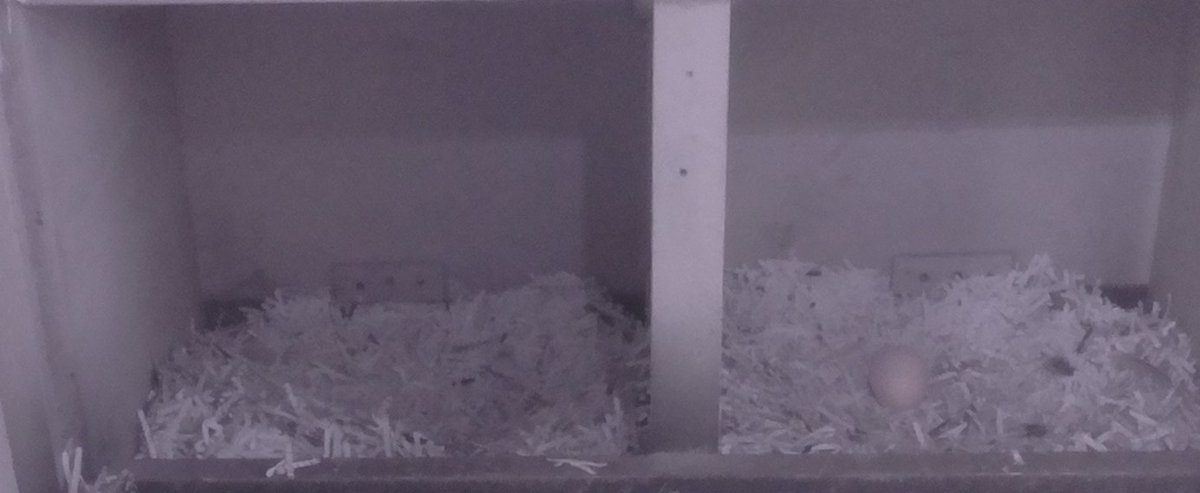egg: (866, 342, 937, 421)
